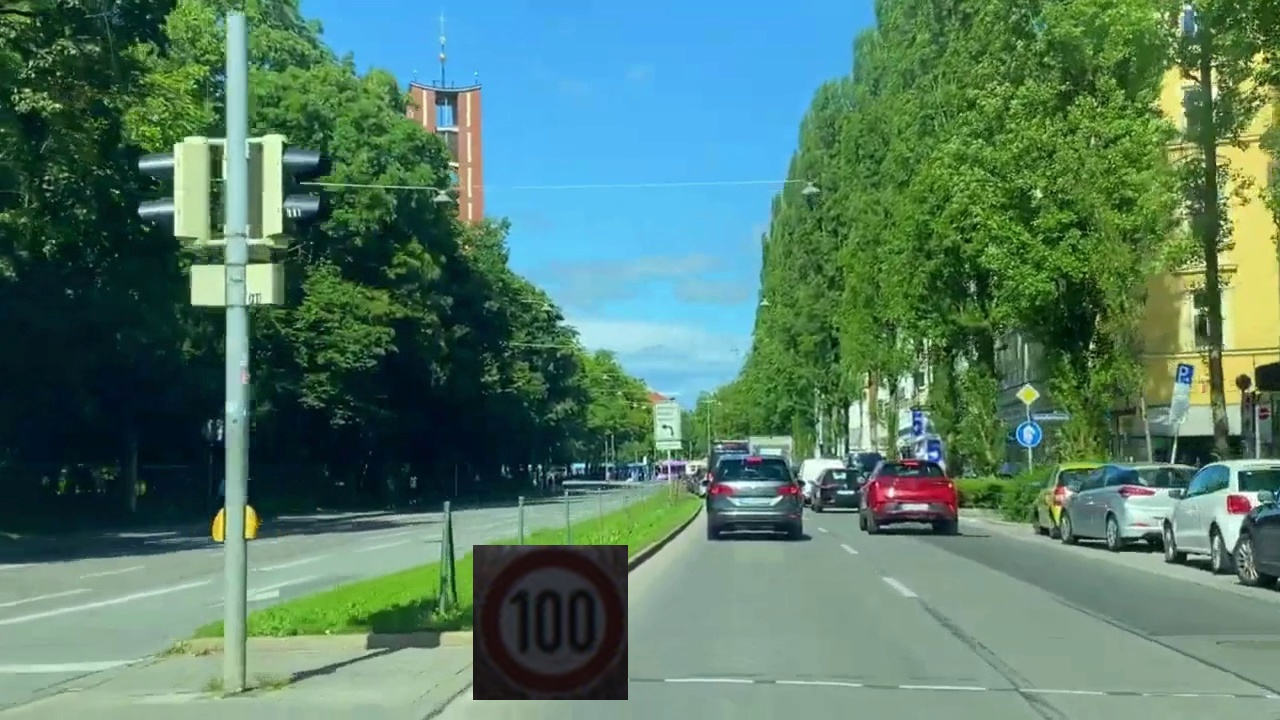Speed 100: (473, 545, 628, 700)
